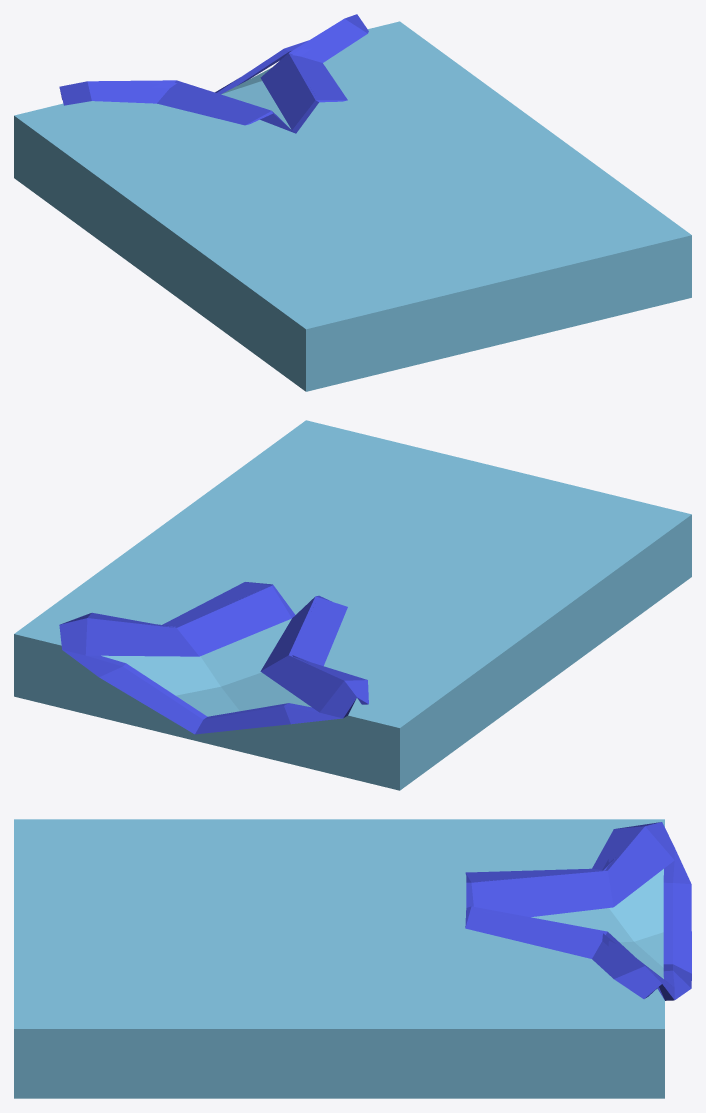
Rendered from foldShirt.fbx.
3 views of the same model, one above another, from view 1: azimuth 30°, elevation 25°; view 2: azimuth 150°, elevation 25°; view 3: azimuth 270°, elevation 25° (orthographic). The views are drawn at different scales.
Visible parts, largest first — view 1: Cube.003, pok; view 2: Cube.003, pok; view 3: Cube.003, pok.
Boxes of the visible parts, box(x1,y1,x2,y2) form: Cube.003: box(14, 21, 691, 391); pok: box(59, 14, 368, 133); Cube.003: box(14, 420, 691, 790); pok: box(59, 582, 368, 734); Cube.003: box(14, 819, 664, 1098); pok: box(465, 822, 691, 1000).
Size of the model in its own units: 34.35 by 7.58 by 46.89.
